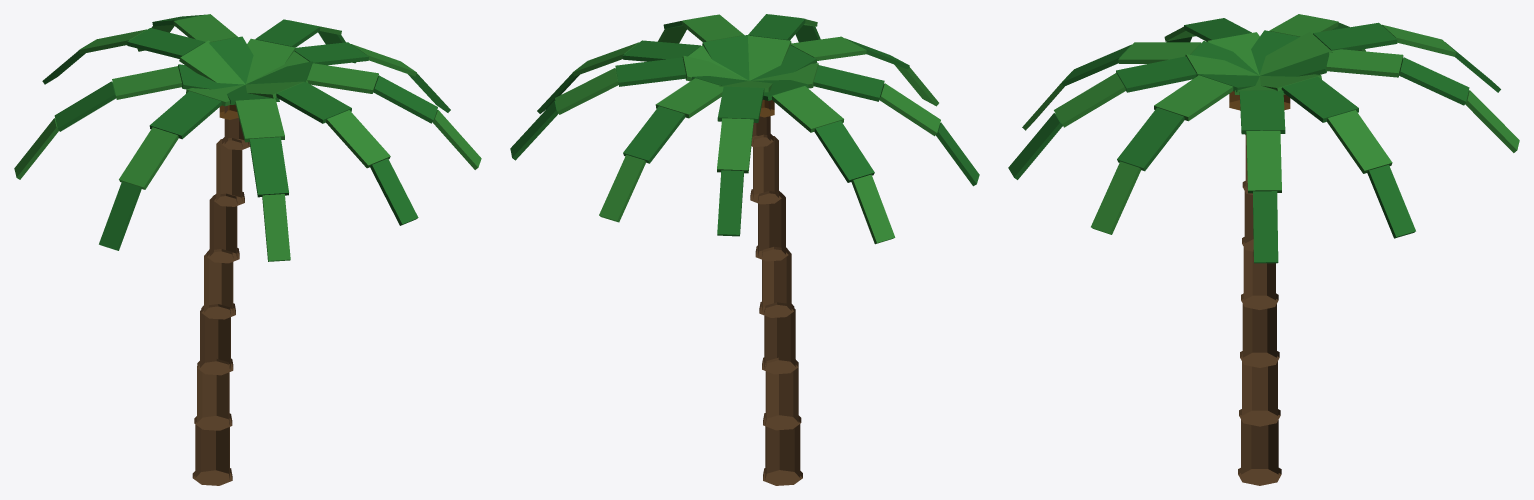
File: palm_1.glb
3 views of the same model, side by side, from view 1: azimuth 30°, elevation 25°; view 2: azimuth 150°, elevation 25°; view 3: azimuth 270°, elevation 25° (orthographic). The views are drawn at different scales.
Parts seen in each view (by area): view 1: palm_1; view 2: palm_1; view 3: palm_1.
Part boxes in pixels (<box>): palm_1: <box>14,14,481,485</box>; palm_1: <box>510,14,979,485</box>; palm_1: <box>1008,14,1519,485</box>.
Bounding box in the file's own units: 5.02 × 5 × 5.26.
